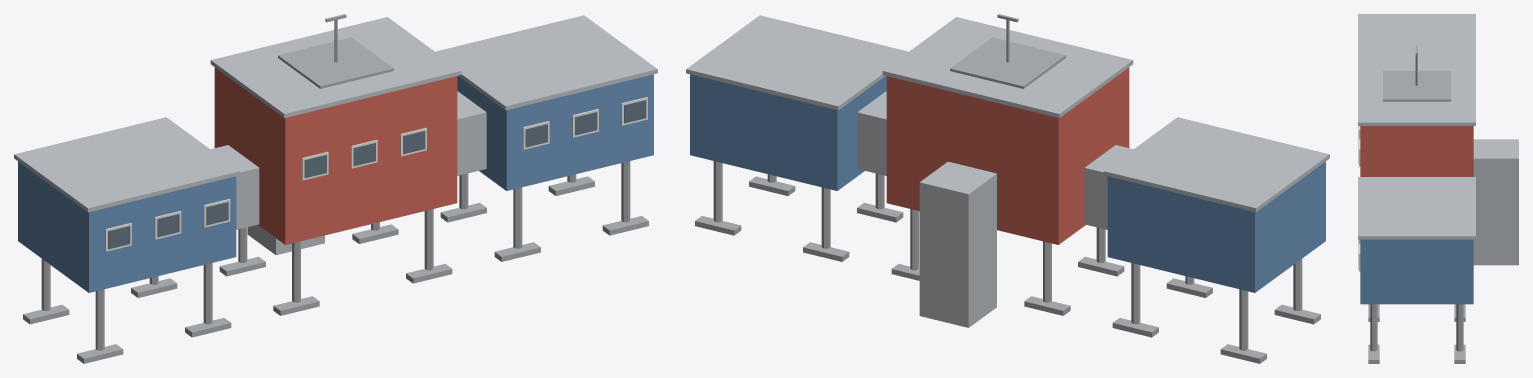
File: ResearchStation.glb
The picture shows the model from 3 angles, left to right: view 1: azimuth 30°, elevation 25°; view 2: azimuth 150°, elevation 25°; view 3: azimuth 270°, elevation 25°; orthographic projection. The views are drawn at different scales.
Visible parts, largest first — view 1: Module.001, Module, Module.002, Module roof, Module roof.002, Module roof.001, Roof deck, Link.001, Link, Stair tower, Limb.051, Limb.053 (+16 smaller); view 2: Module.001, Module, Module.002, Module roof, Module roof.002, Stair tower, Module roof.001, Roof deck, Link.001, Link, Limb.052, Limb.054 (+14 smaller); view 3: Module.002, Module roof.002, Module roof.001, Module.001, Stair tower, Module roof, Roof deck, Limb.053, Limb.054, Ski.010, Ski.011.
Part boxes in pixels (x1,y1,x2,y2): Module.001: (214,67,457,244); Module: (18,161,236,292); Module.002: (457,74,653,190); Module roof: (14,117,240,212); Module roof.002: (435,15,657,110); Module roof.001: (210,17,461,117); Roof deck: (278,37,393,88); Link.001: (457,91,486,175); Link: (211,145,259,229); Stair tower: (247,225,324,255); Limb.051: (513,187,522,248); Limb.053: (621,161,630,222); Module.001: (886,67,1129,244); Module: (1107,161,1325,292); Module.002: (690,74,886,190); Module roof: (1103,117,1329,212); Module roof.002: (686,15,908,110); Stair tower: (919,161,996,327); Module roof.001: (882,17,1133,117); Roof deck: (950,37,1065,88); Link.001: (857,91,886,175); Link: (1084,145,1132,229); Limb.052: (821,187,830,248); Limb.054: (713,161,722,222); Module.002: (1360,239,1473,304); Module roof.002: (1358,177,1475,239); Module roof.001: (1358,53,1475,125); Module.001: (1360,126,1473,176); Stair tower: (1473,139,1518,265); Module roof: (1358,14,1475,53); Roof deck: (1383,71,1450,101); Limb.053: (1370,304,1377,351); Limb.054: (1456,304,1463,351); Ski.010: (1368,344,1379,363); Ski.011: (1454,344,1465,363).
Bounding box in the file's own units: 23.2 × 10.05 × 7.1.
